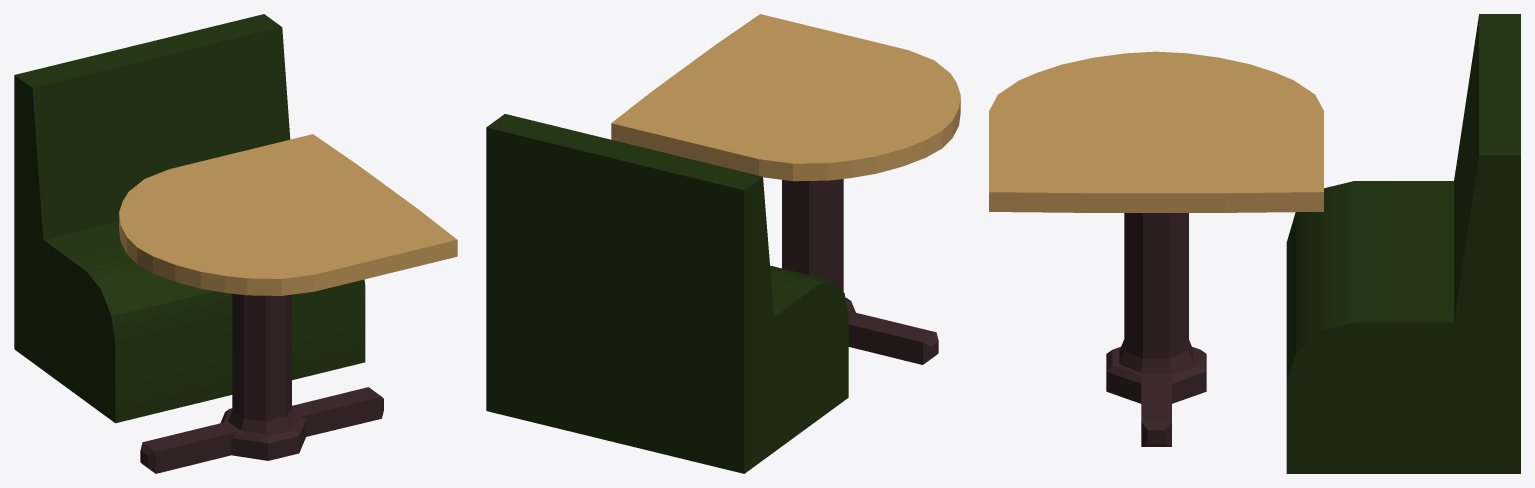
Rendered from worst table ive made.fbx.
The picture shows the model from 3 angles, left to right: view 1: azimuth 30°, elevation 25°; view 2: azimuth 150°, elevation 25°; view 3: azimuth 270°, elevation 25°; orthographic projection. The views are drawn at different scales.
Parts seen in each view (by area): view 1: booth, table; view 2: booth, table; view 3: booth, table.
Boxes of the visible parts, x1,y1,x2,y2 form: booth: [14, 14, 365, 423]; table: [119, 134, 457, 473]; booth: [486, 114, 848, 473]; table: [611, 14, 960, 364]; booth: [1286, 14, 1520, 473]; table: [989, 51, 1323, 446].
Size of the model in its own units: 455 by 420 by 636.
